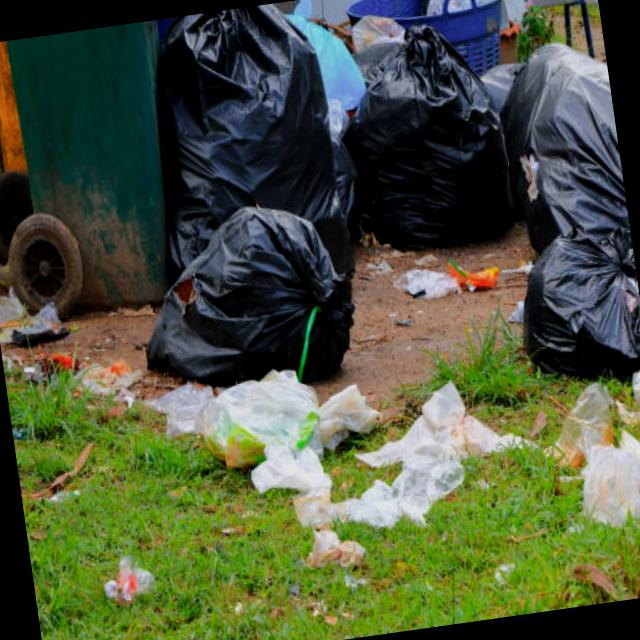garbage: (91, 0, 640, 615)
